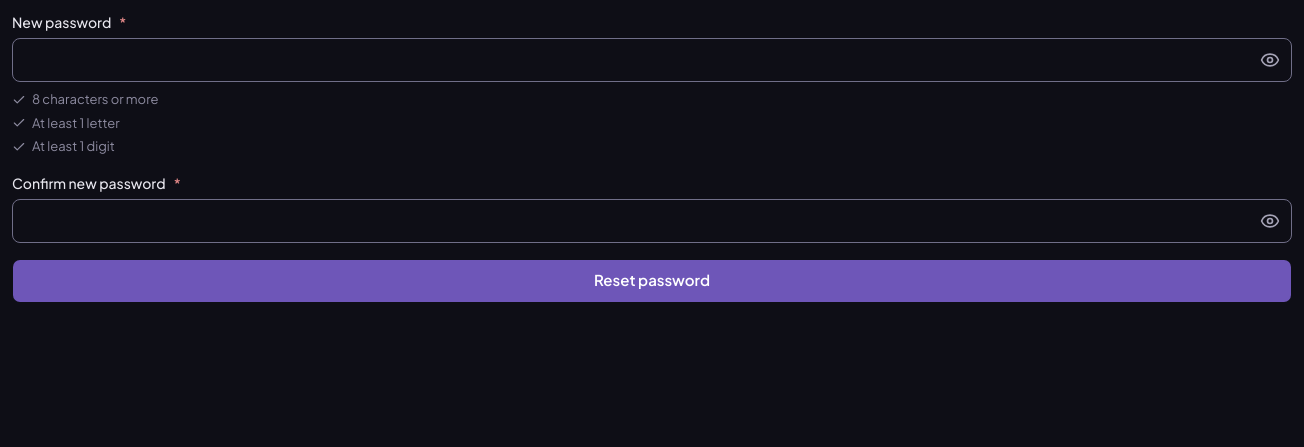
Scenario: a password that breaks the rules shows the backend error under the field and keeps the form
Type "short" into the password field labelled "New password *" at (652, 60), box [12,38,1292,82]
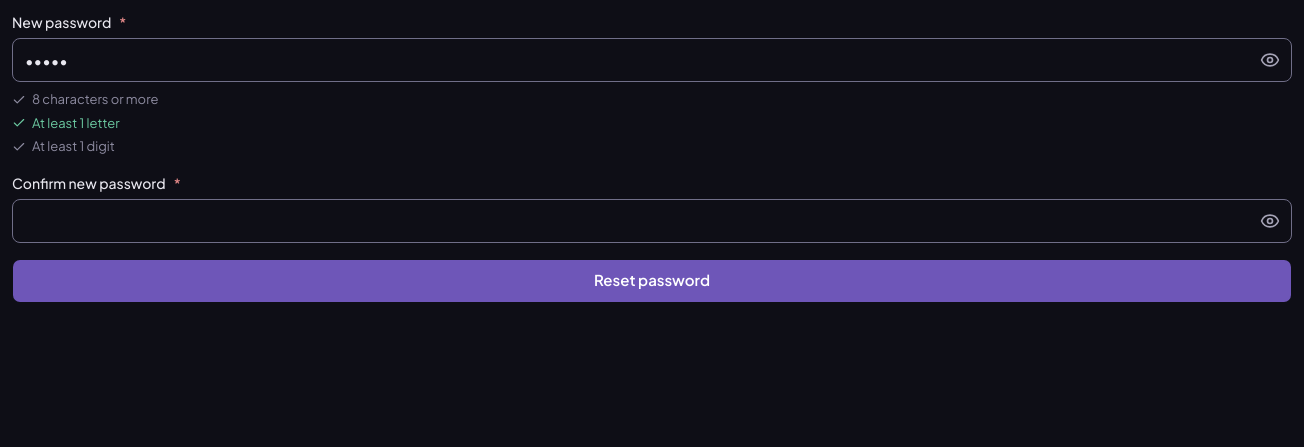
Type "short" into the password field labelled "Confirm new password *" at (652, 220), box [12,198,1292,242]
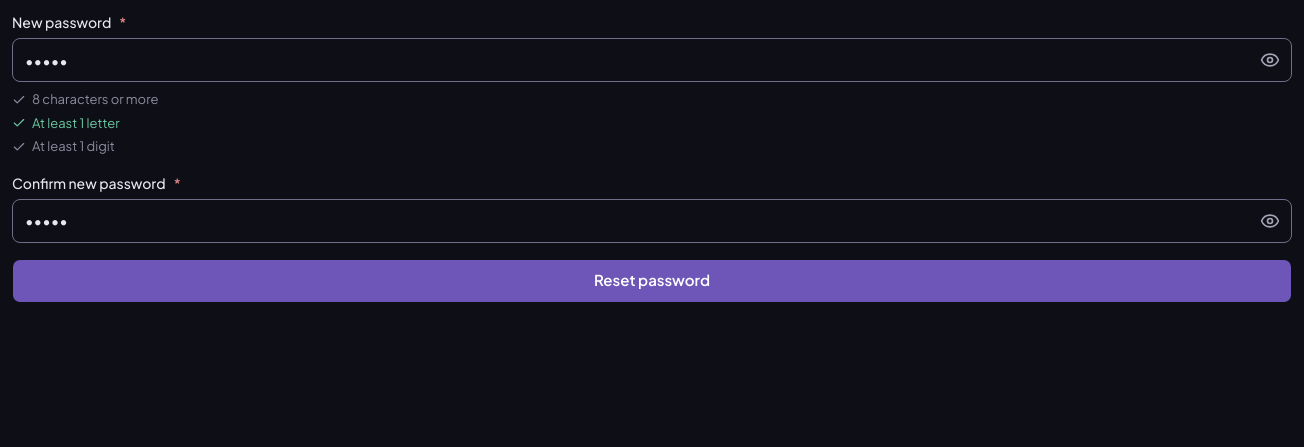
Click the button "Reset password" at (652, 280), box [12,258,1292,302]
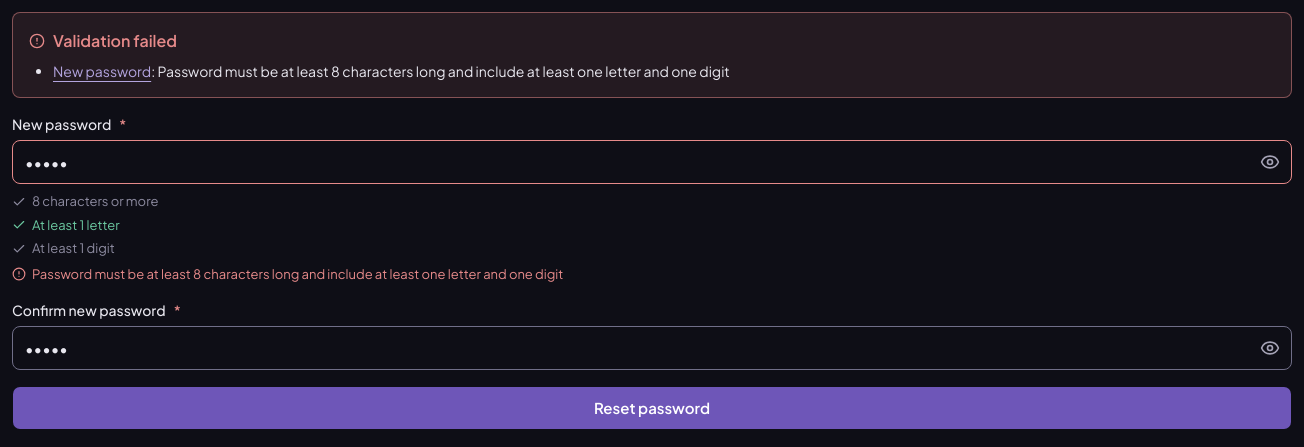
expect the button "Reset password" is shown: met, box [12,386,1292,430]
expect the text "Password must be at least 8 characters long and include at least one letter and one digit" is shown: met, box [32,266,563,282]
